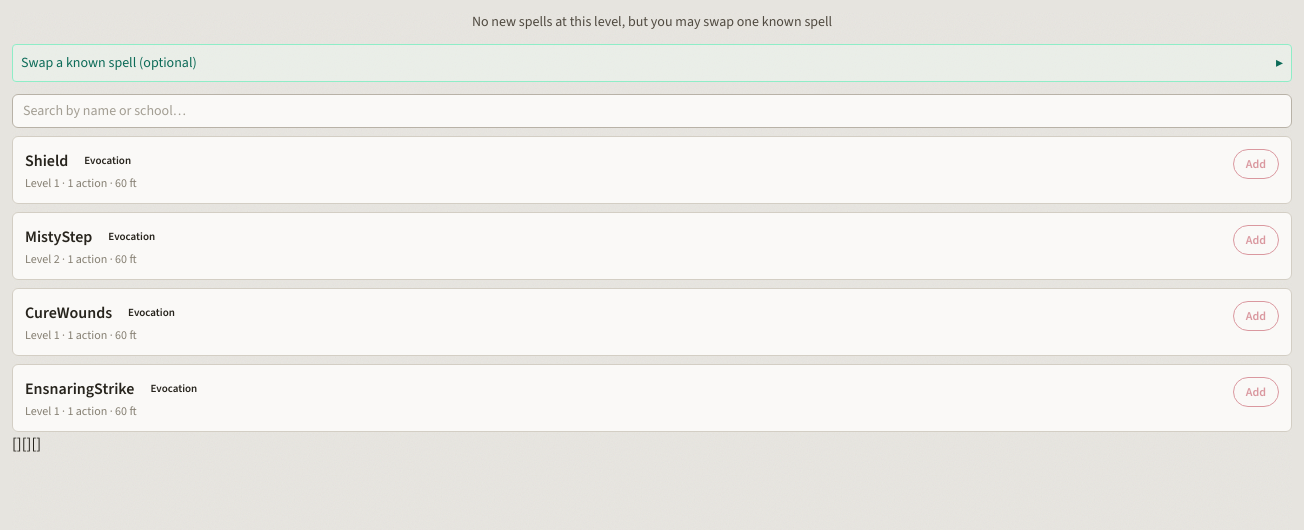
NewSpellsStep — swap selection (#1101) › a staged swap on a count-0 level reads 'swap replacement', not '0 + 1 swap'
Click the button "Swap a known spell (optional) ▸" at [43, 62], box [21,53,1283,73]
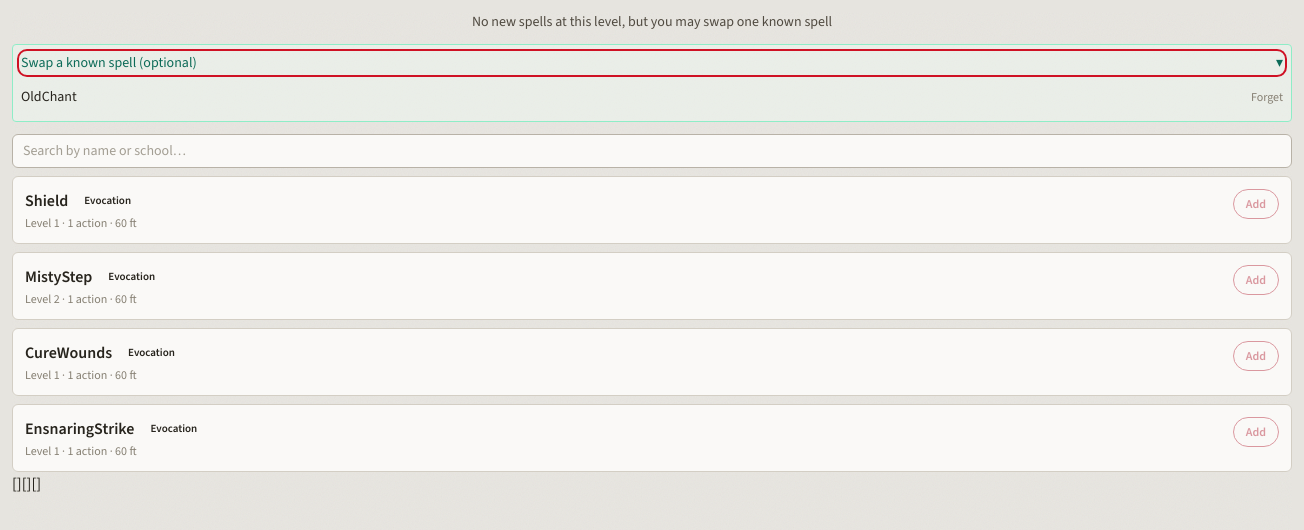
Click the button "OldChant Forget" at [49, 96], box [21,81,1283,113]
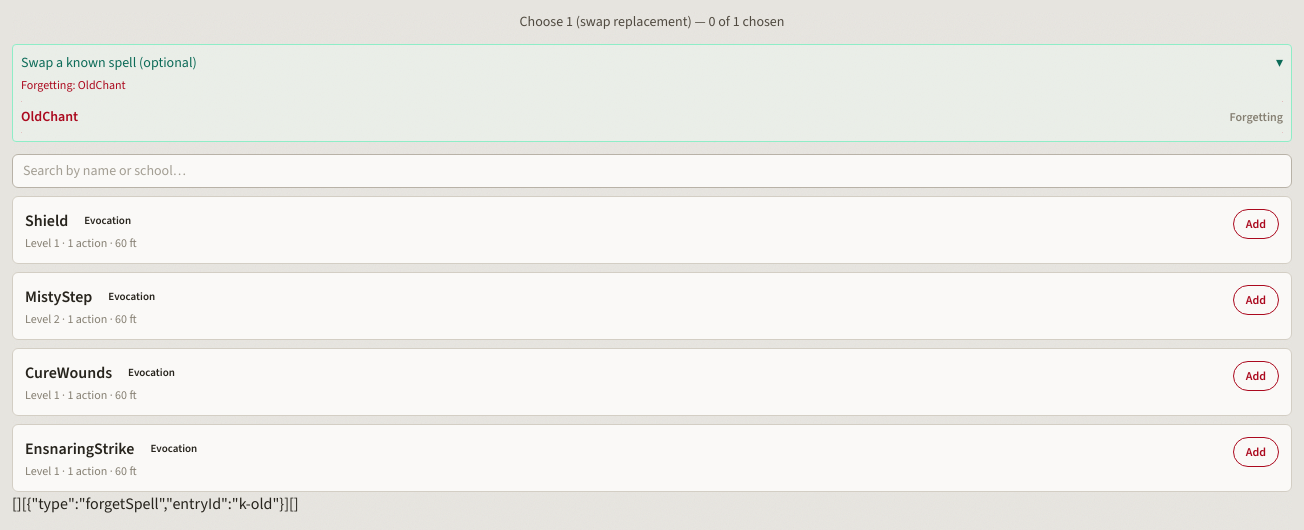
Now the text "Choose 1 (swap replacement) — 0 of 1 chosen" is shown, box [520,12,784,31]
